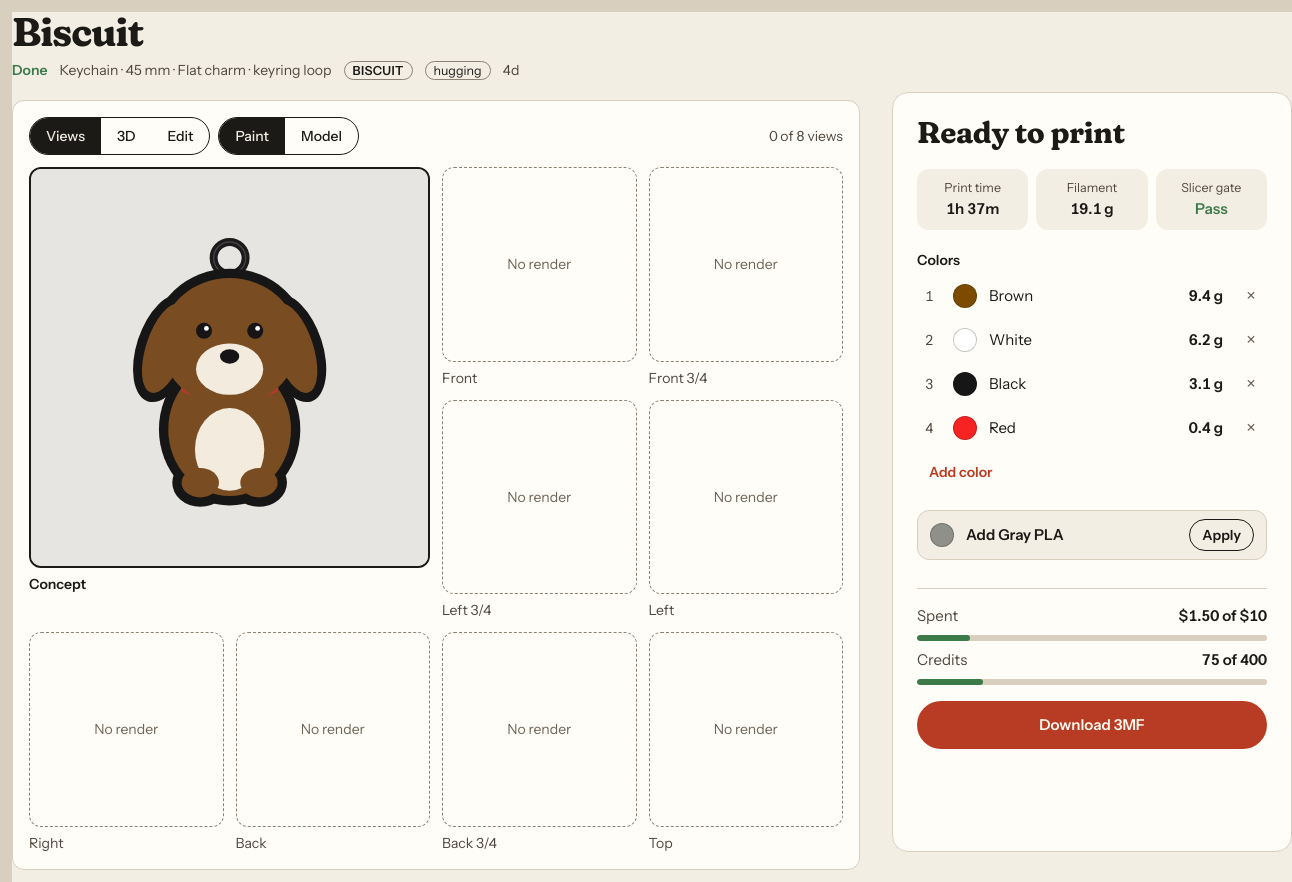
it: Filament picker › resets the draft
Expected: the text "Brown" is shown, left=989, top=286, right=1033, bottom=304
Click the button named "Remove slot 2": (1251, 340) left=1235, top=324, right=1267, bottom=356
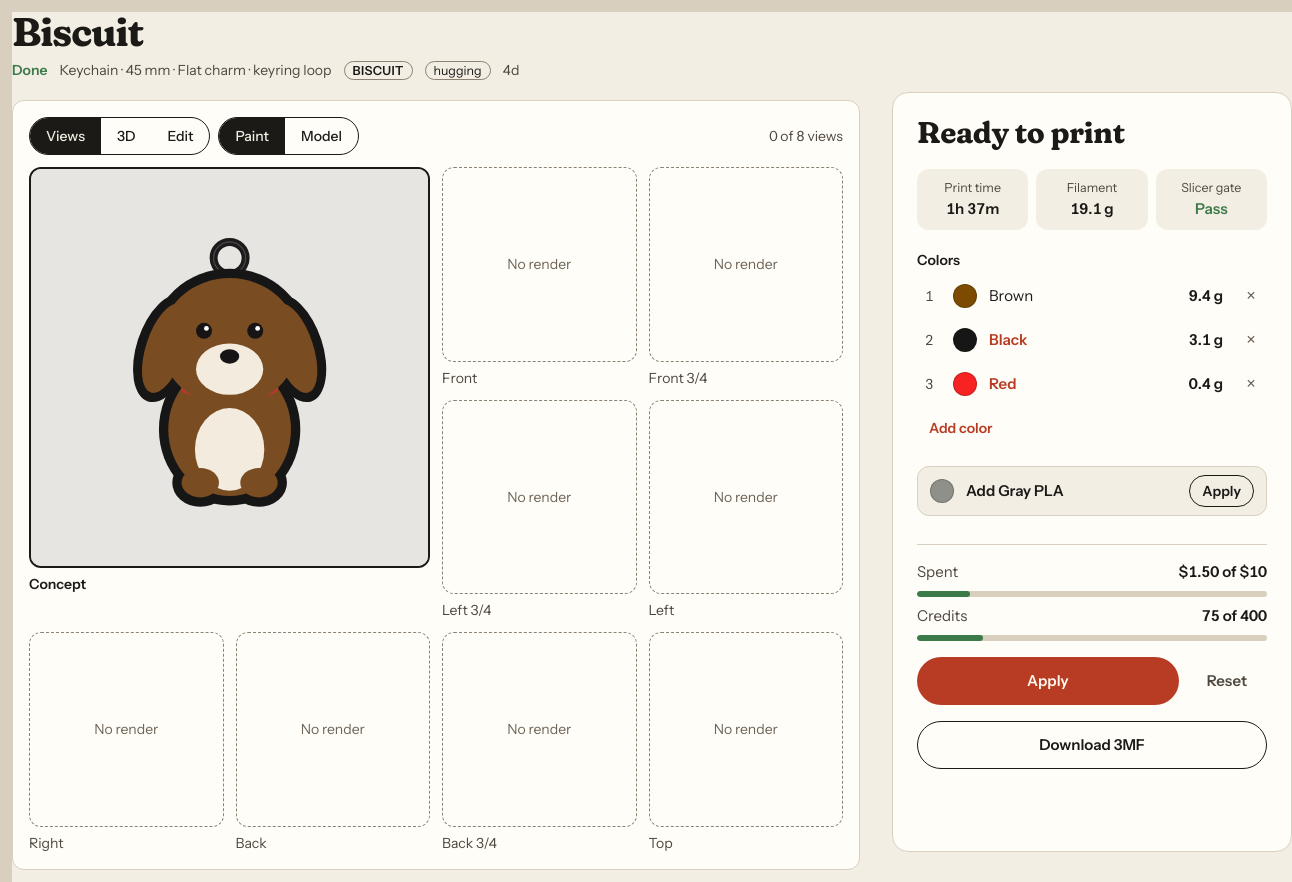
Expected: the number of list items is 3, left=917, top=274, right=1267, bottom=318; left=917, top=318, right=1267, bottom=362; left=917, top=362, right=1267, bottom=406
Click the button "Reset": (1227, 680) left=1187, top=656, right=1267, bottom=704
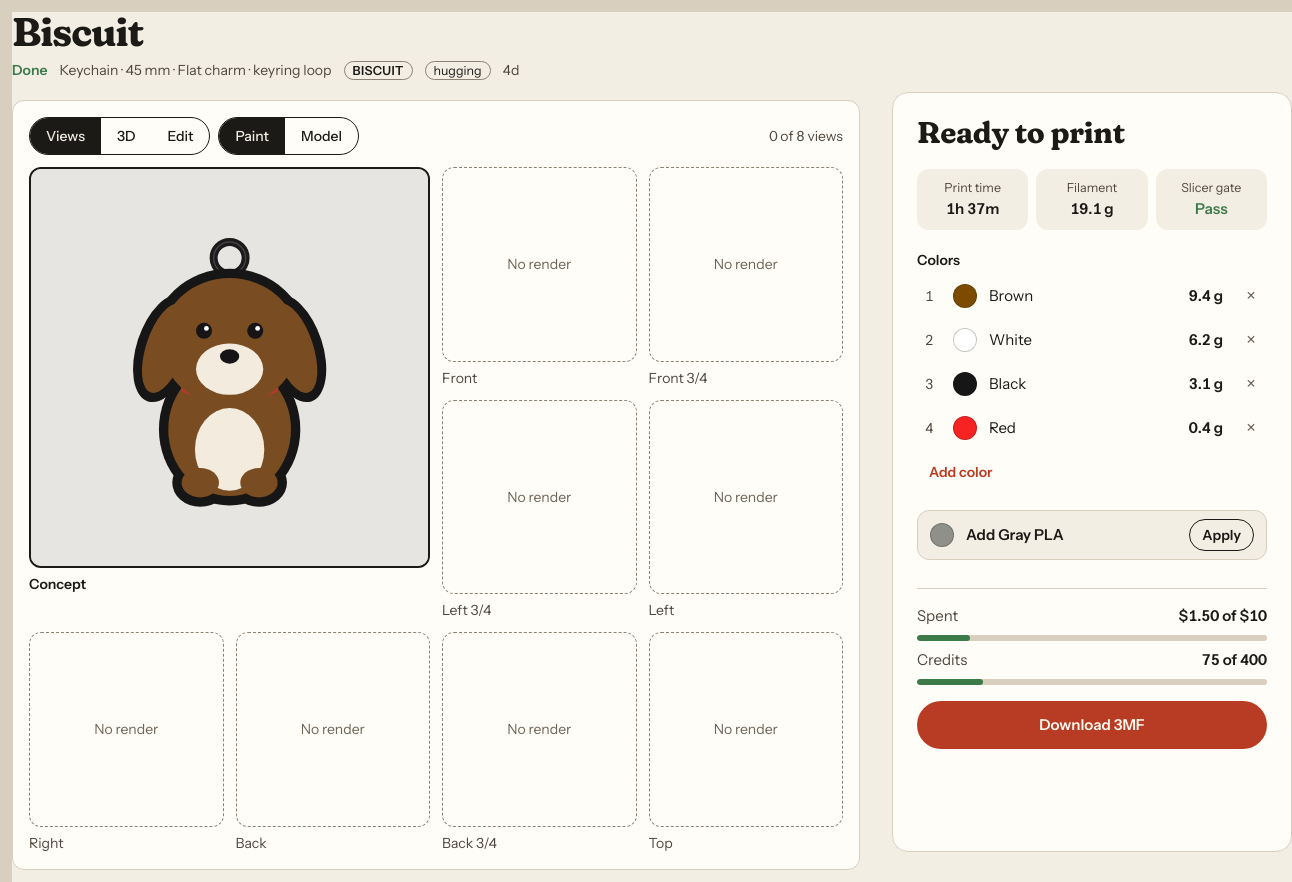
Expected: the number of list items is 4, left=917, top=274, right=1267, bottom=318; left=917, top=318, right=1267, bottom=362; left=917, top=362, right=1267, bottom=406; left=917, top=406, right=1267, bottom=450
